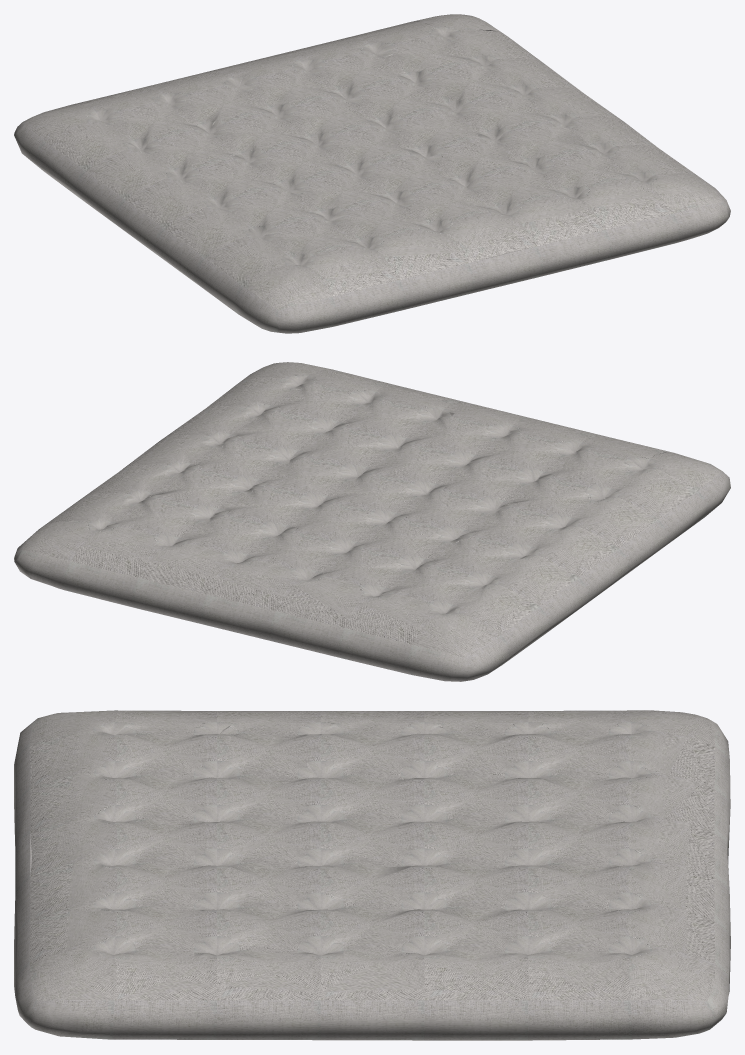
The model's file is floor-cushion.glb.
The picture shows the model from 3 angles, top to bottom: view 1: azimuth 30°, elevation 25°; view 2: azimuth 150°, elevation 25°; view 3: azimuth 270°, elevation 25°; orthographic projection. The views are drawn at different scales.
Visible parts, largest first — view 1: Cube; view 2: Cube; view 3: Cube.
Part boxes in pixels (box(x1,y1,x2,y2)): Cube: box(14, 14, 730, 333); Cube: box(14, 362, 730, 681); Cube: box(14, 710, 730, 1040).
Bounding box in the file's own units: 1.98 × 0.2379 × 1.97.
1 material, 1 textured.
